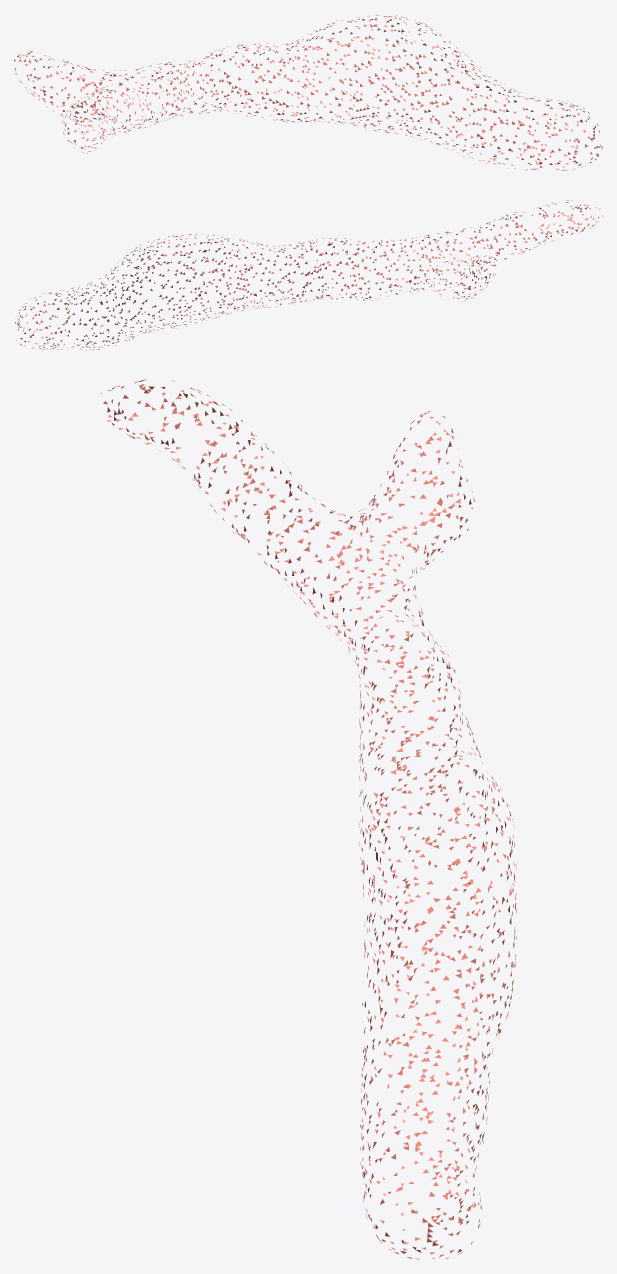
Rendered from diseased.glb.
3 views of the same model, one above another, from view 1: azimuth 30°, elevation 25°; view 2: azimuth 150°, elevation 25°; view 3: azimuth 270°, elevation 25° (orthographic). The views are drawn at different scales.
Size of the model in its own units: 131 by 52.31 by 47.17.
